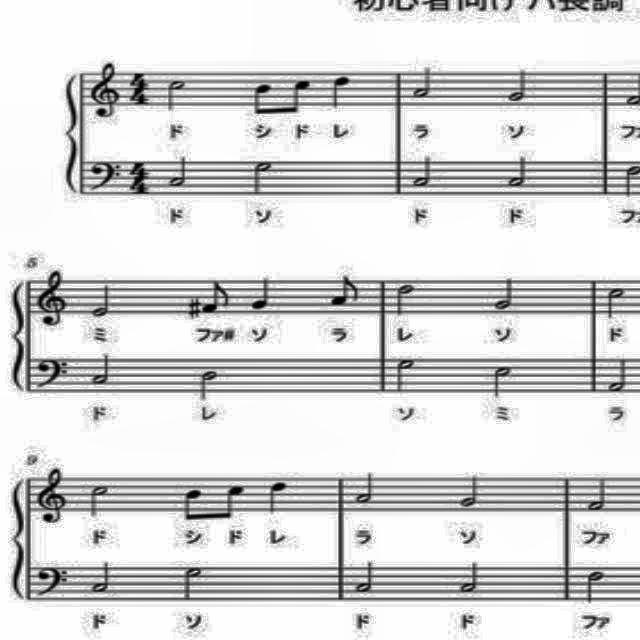Bass-clef: (29, 562, 75, 602), (31, 352, 71, 393), (86, 156, 126, 196)
Eighth-note: (282, 73, 318, 121), (218, 475, 250, 525), (181, 482, 211, 530), (328, 273, 364, 311), (199, 280, 233, 320), (250, 74, 278, 118)
Half-note: (578, 470, 614, 518), (450, 470, 490, 510), (596, 352, 632, 396), (452, 557, 488, 599), (574, 565, 610, 607), (386, 280, 422, 320), (488, 276, 524, 316), (348, 467, 379, 513), (404, 152, 436, 192), (86, 278, 115, 322), (504, 66, 536, 104), (246, 157, 274, 199), (506, 151, 534, 193), (87, 348, 113, 392), (408, 62, 438, 100), (389, 357, 419, 395), (86, 480, 114, 520), (178, 564, 206, 604), (86, 560, 114, 596), (200, 366, 224, 406), (354, 560, 378, 600), (603, 286, 631, 320), (489, 364, 518, 396), (166, 70, 186, 114), (166, 154, 190, 190)
Quarter-note: (242, 276, 274, 316), (328, 70, 356, 114), (262, 479, 290, 517)
Treble-clef: (35, 266, 73, 334), (32, 462, 68, 526), (88, 60, 124, 120)
